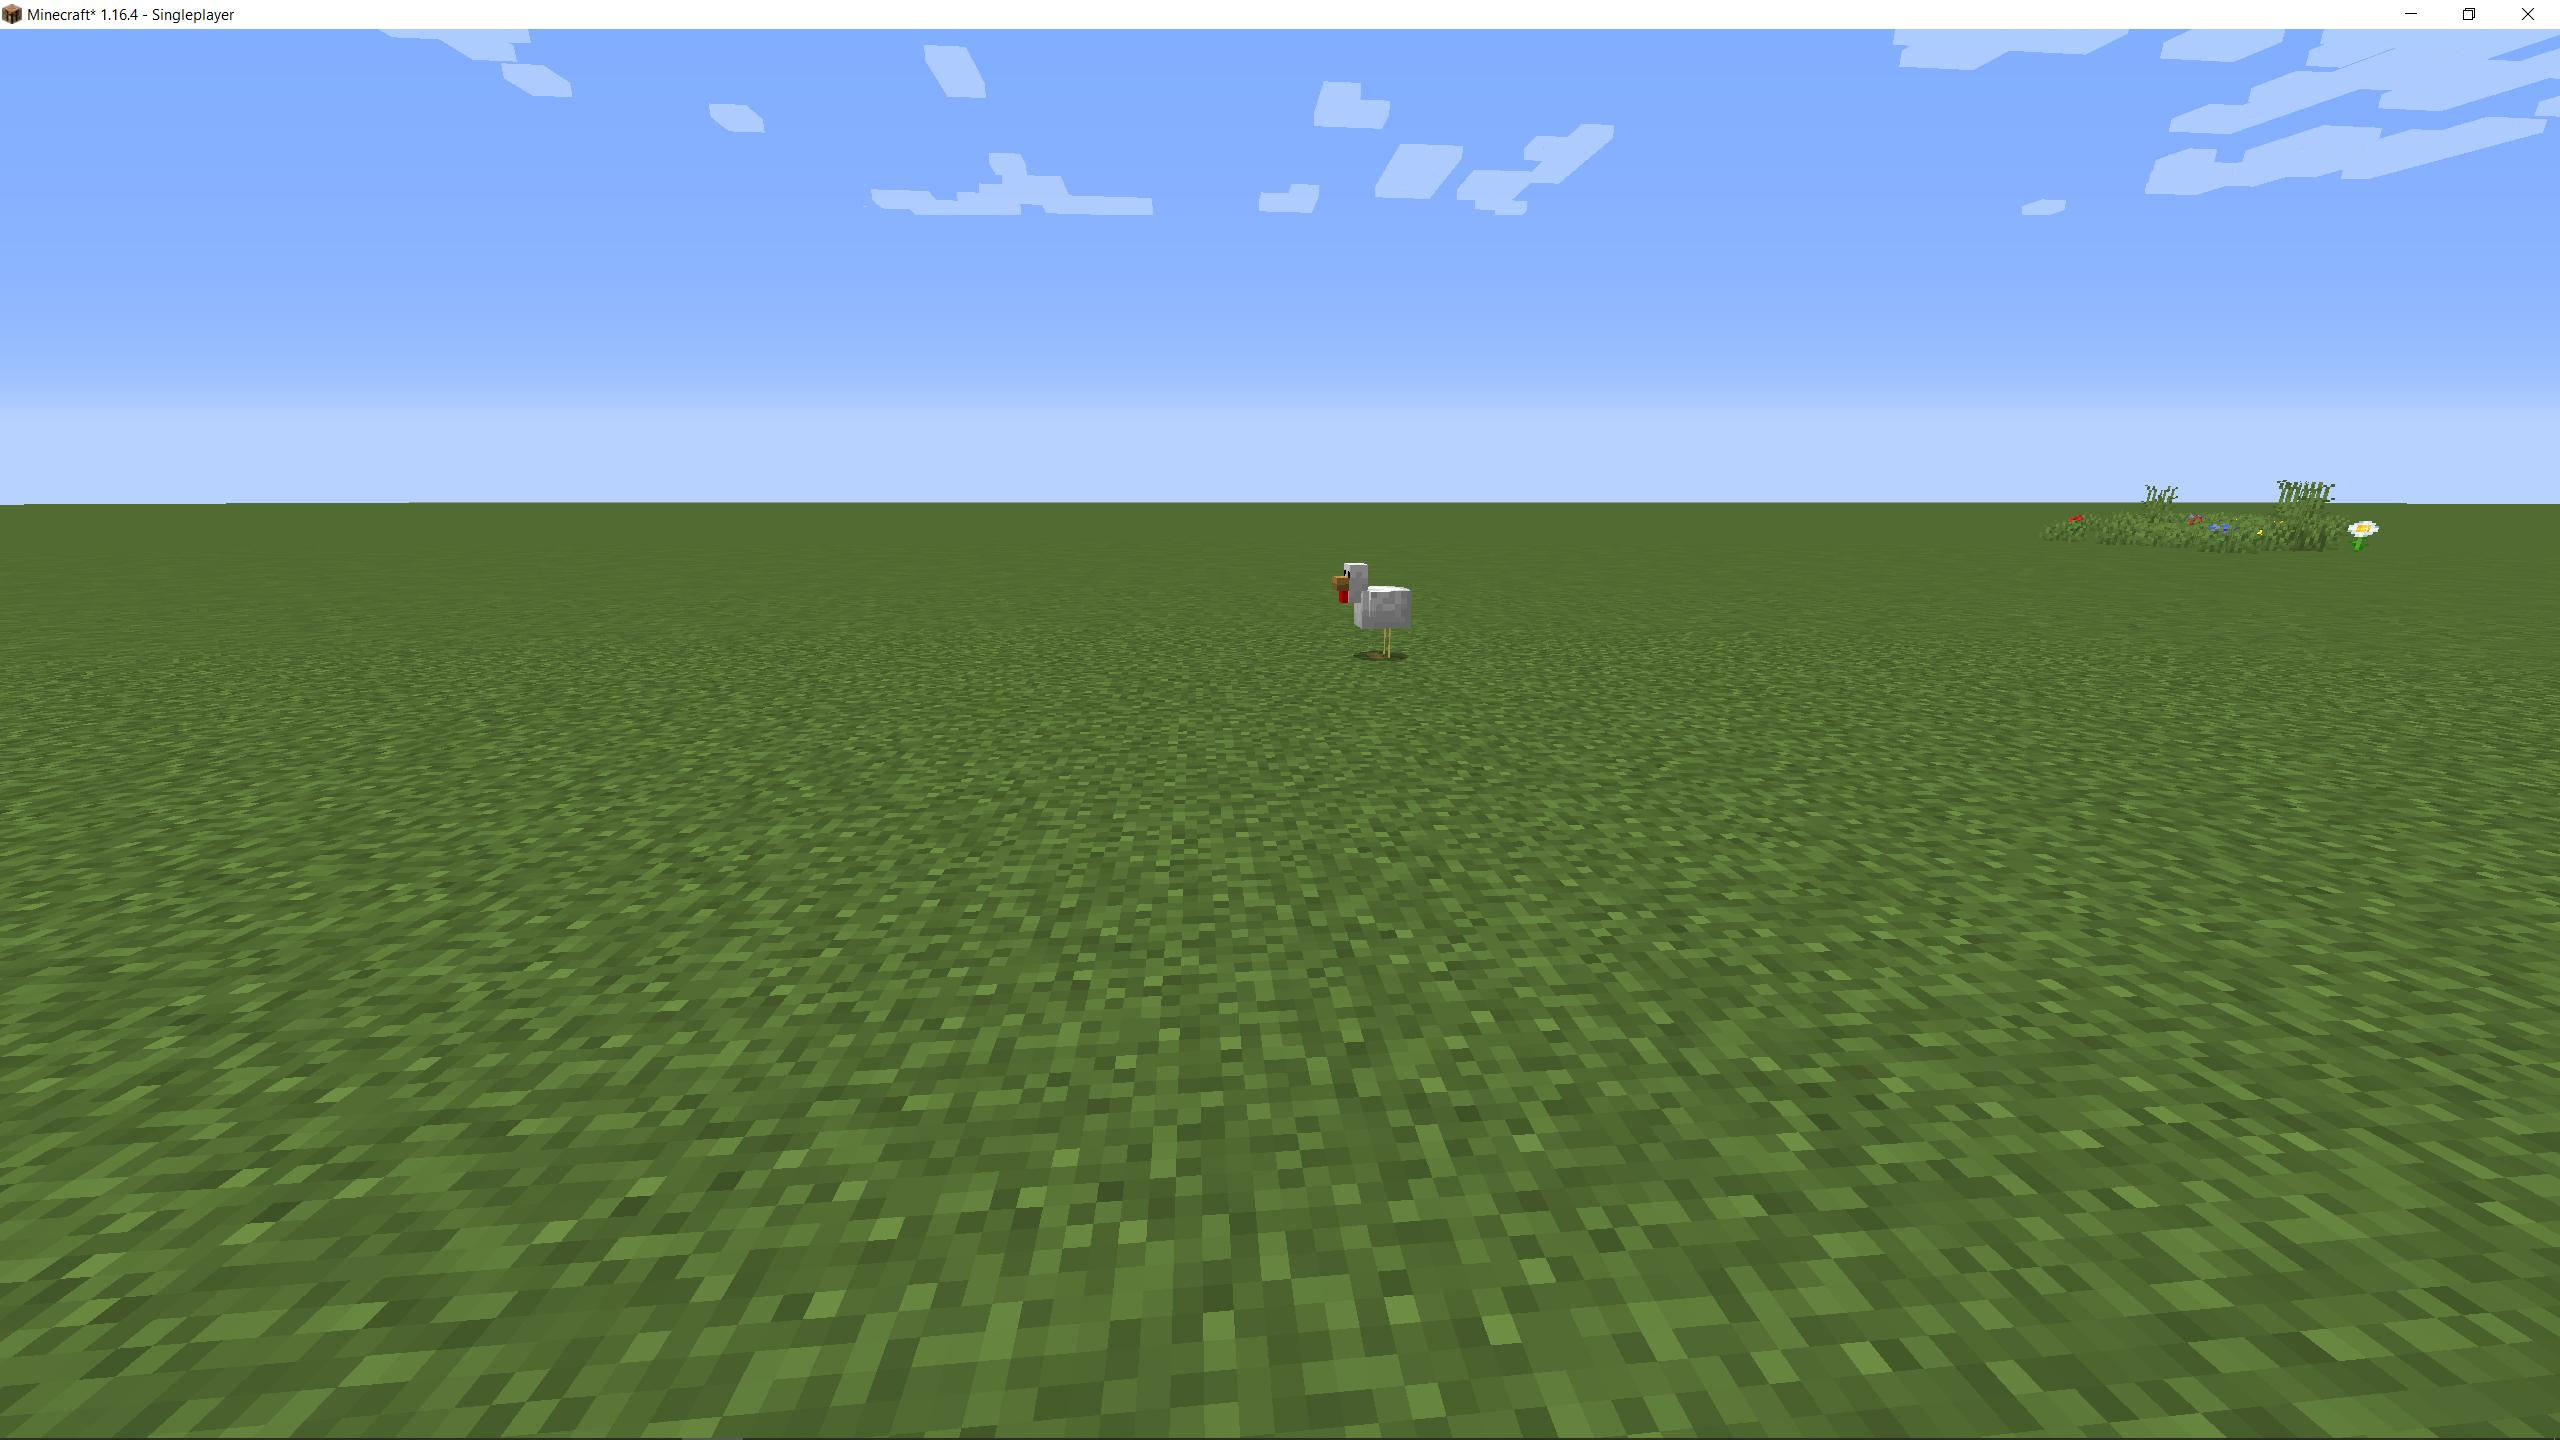chicken: (1320, 556, 1419, 675)
